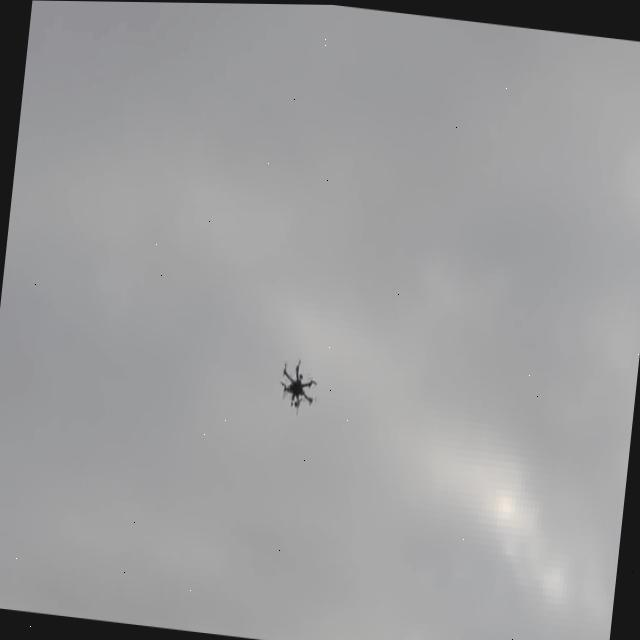drone: (0, 467, 619, 640)
